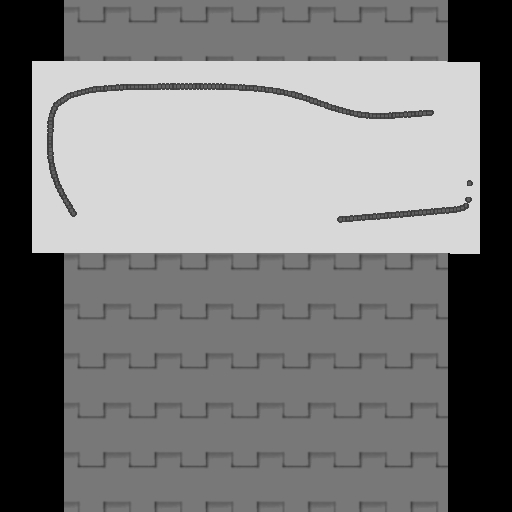Defect: (75, 197, 337, 236)
